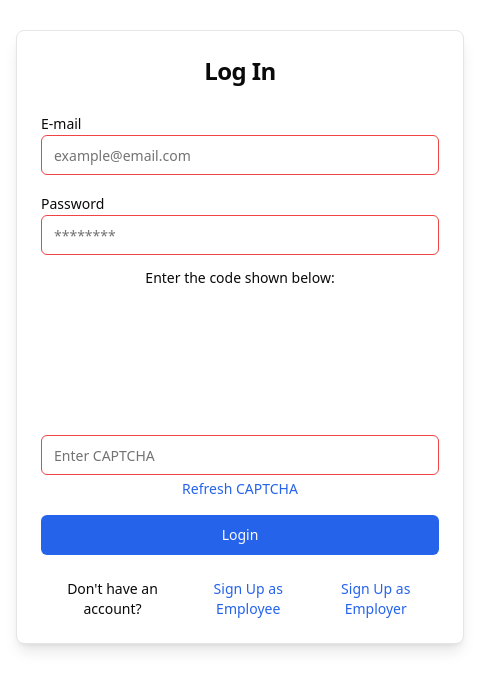
it: Login Page › handles authentication error
This screenshot has width=481, height=684.
// Fill form
Step 1. Type "wrong@example.com" into the field labelled "E-mail" → (240, 155), box [41,135,439,175]
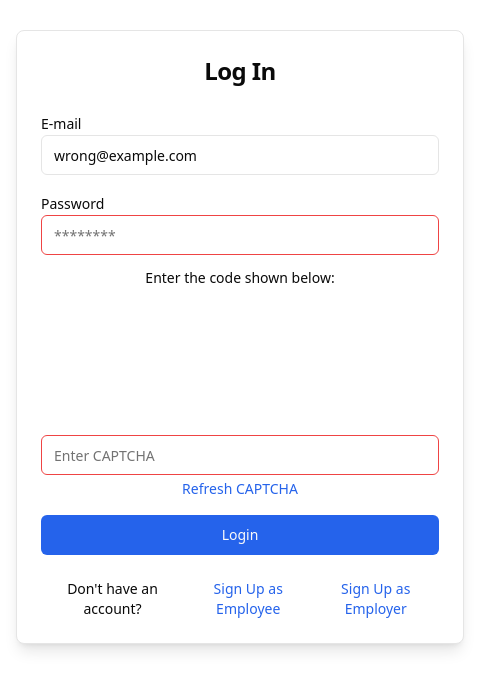
Step 2. Type "wrongpassword" into the password field labelled "Password" → (240, 235), box [41,215,439,255]
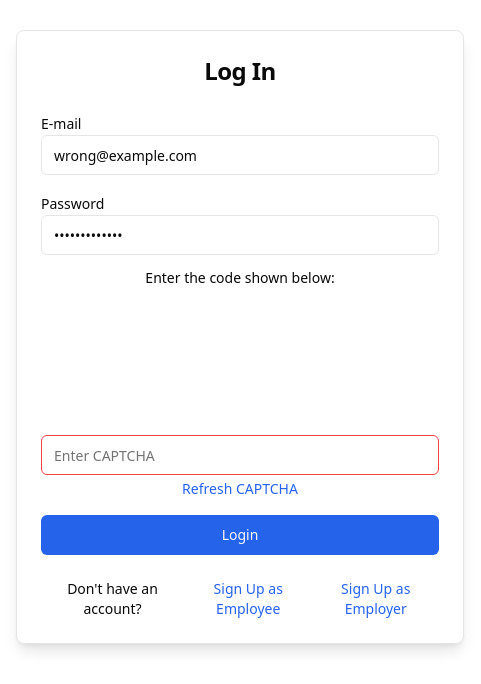
Step 3. Type "captcha123" into the field with placeholder "Enter CAPTCHA" → (240, 455), box [41,435,439,475]
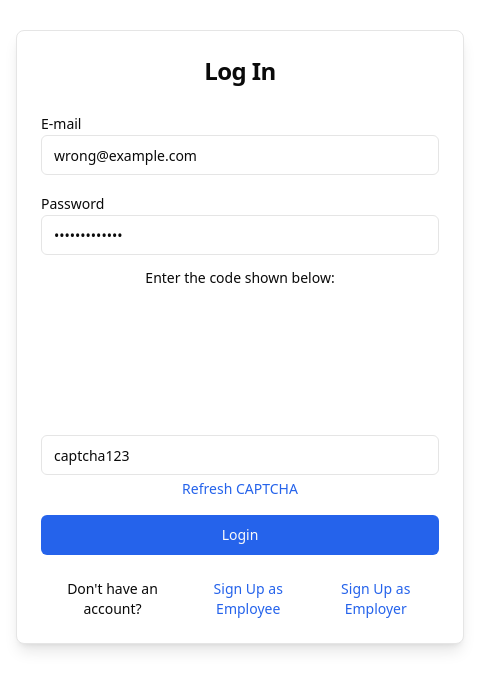
// Submit form
Step 4. Submit the form from the button "Login", box [41,515,439,555]
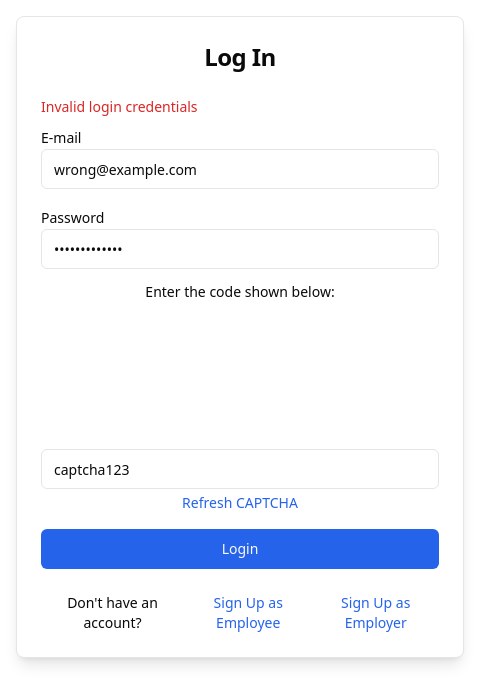
Now the text "Invalid login credentials" is shown, box [41,97,198,116]
